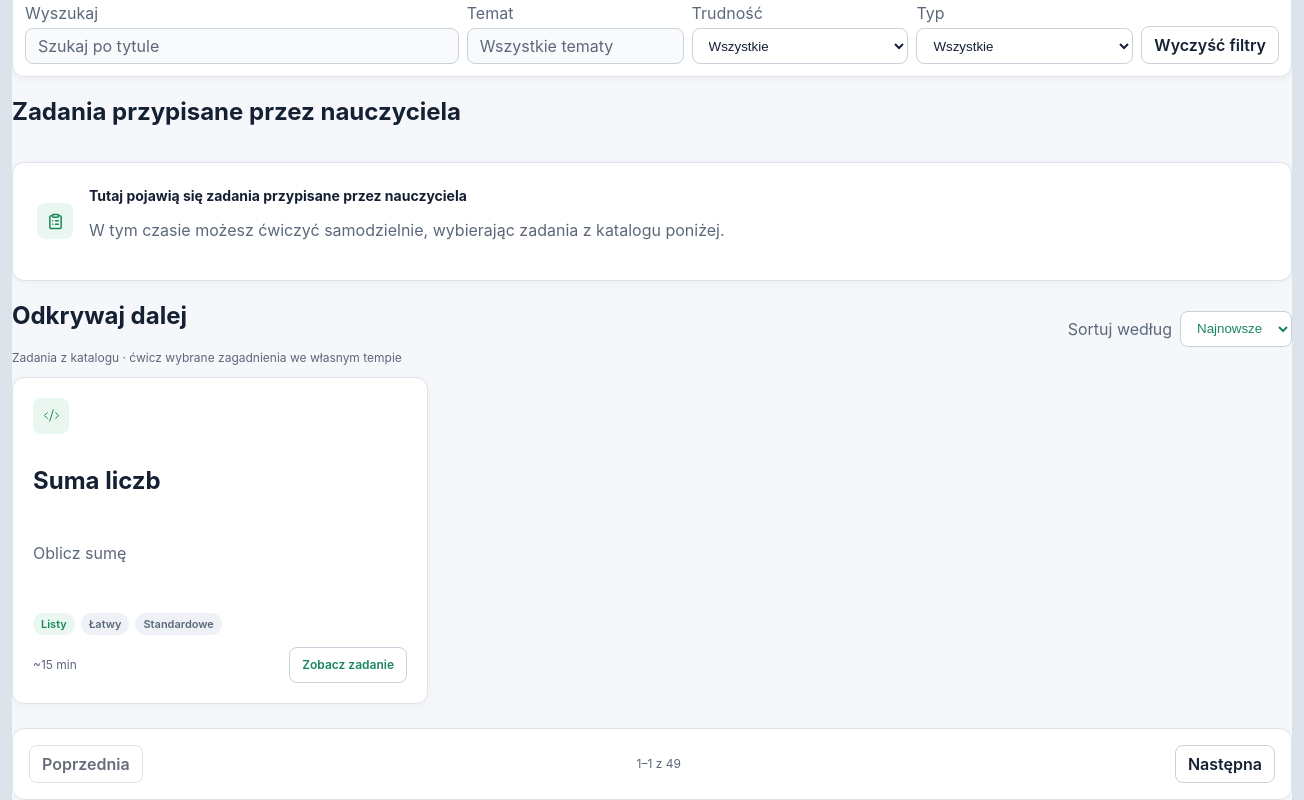
Scenario: corrects an out-of-range offset after total shrinks to 25
This screenshot has width=1304, height=800.
(page scrolled)
Expected: the link "Suma liczb" is shown, [33,466,161,495]
Click the button "Następna": [1225, 764] box [1175,744,1275,782]
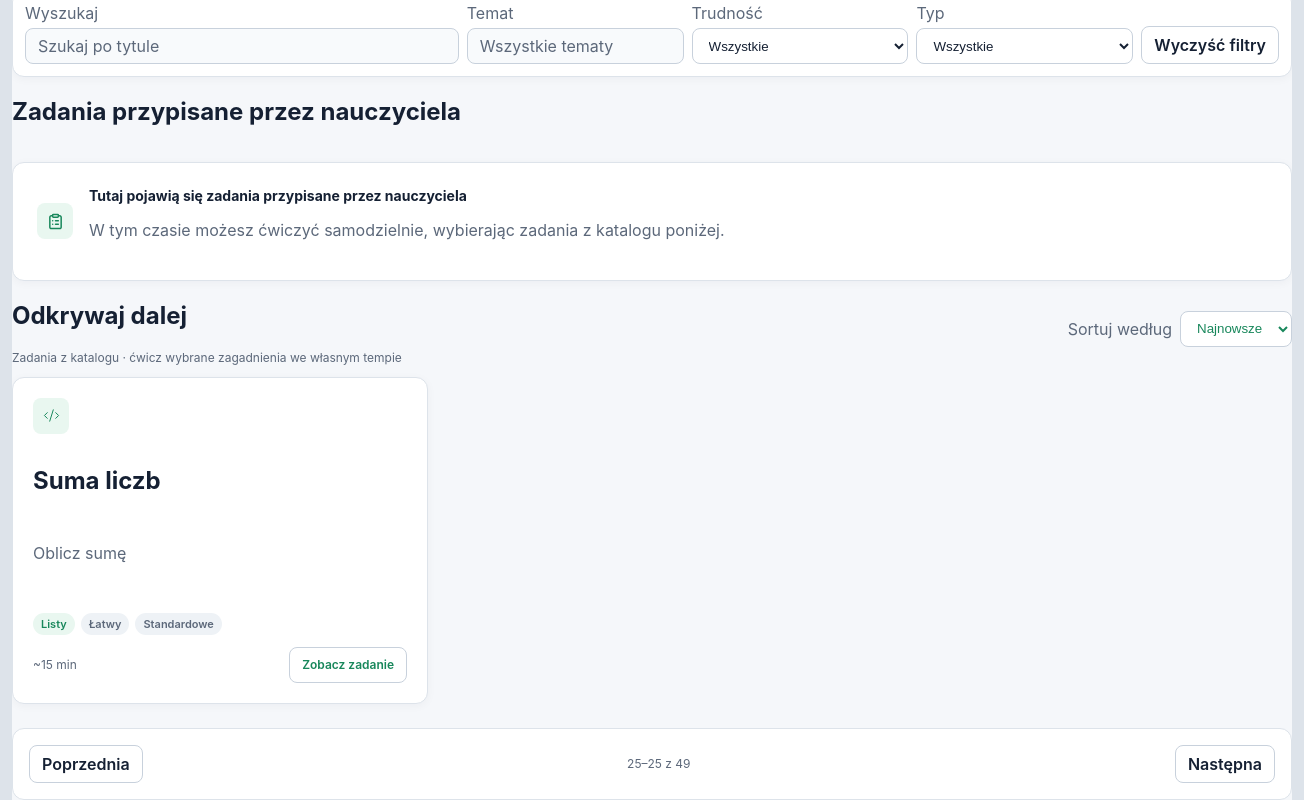
Expected: the link "Suma liczb" is shown, [33,466,161,495]
Click the button "Następna": [1225, 764] box [1175,744,1275,782]
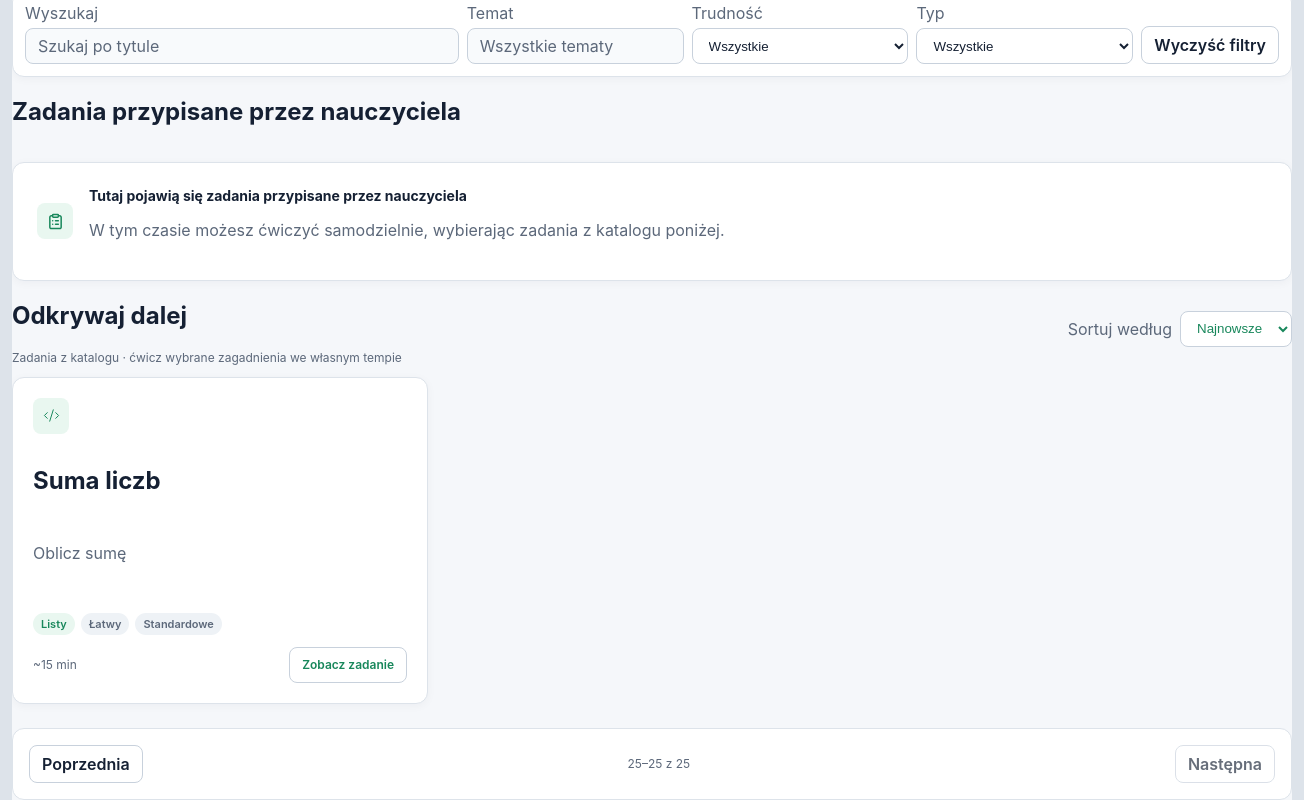
Expected: the link "Suma liczb" is shown, [33,466,161,495]
Expected: the button "Następna" is disabled, [1175,744,1275,782]
